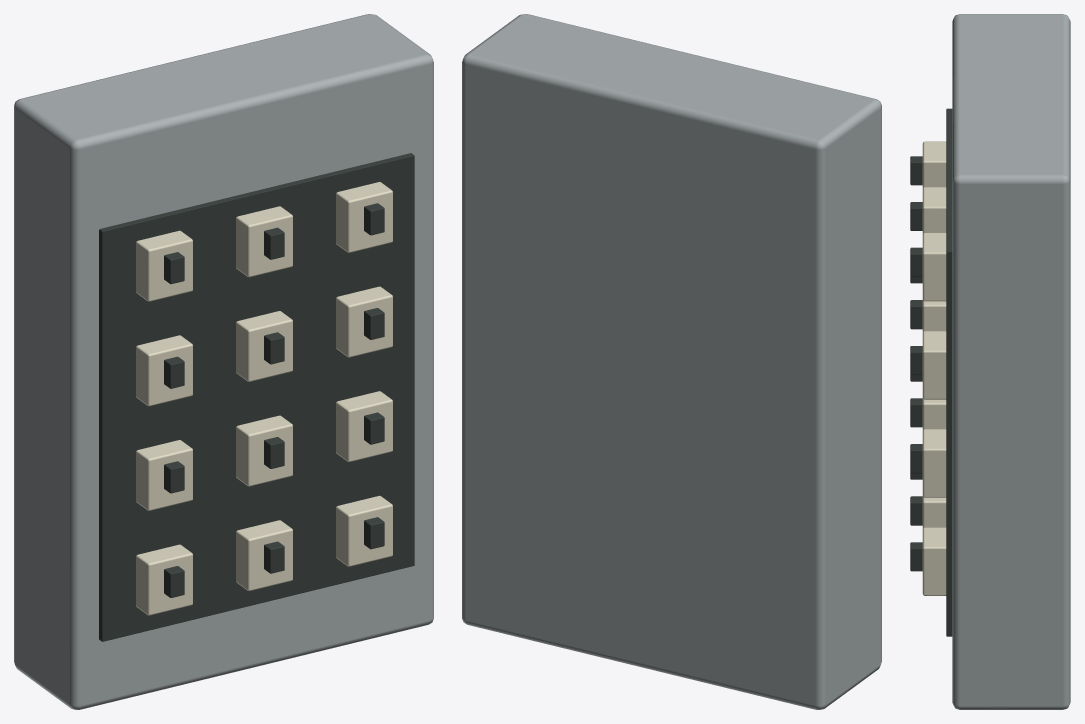
Rendered from off-grid-power-and-controls-breaker-panel-b590b21e__2992.glb.
The picture shows the model from 3 angles, left to right: view 1: azimuth 30°, elevation 25°; view 2: azimuth 150°, elevation 25°; view 3: azimuth 270°, elevation 25°; orthographic projection. The views are drawn at different scales.
Parts seen in each view (by area): view 1: breaker-panel; view 2: breaker-panel; view 3: breaker-panel.
Part boxes in pixels (x1,y1,x2,y2): breaker-panel: (14,14,433,709); breaker-panel: (462,14,881,709); breaker-panel: (910,14,1070,709).
Bounding box in the file's own units: 0.4 × 0.6 × 0.1625.
